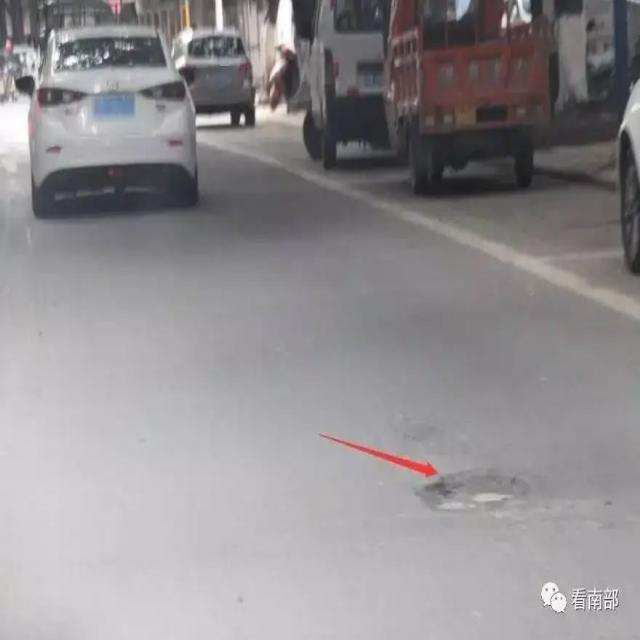Pothole: (419, 476, 531, 528)
